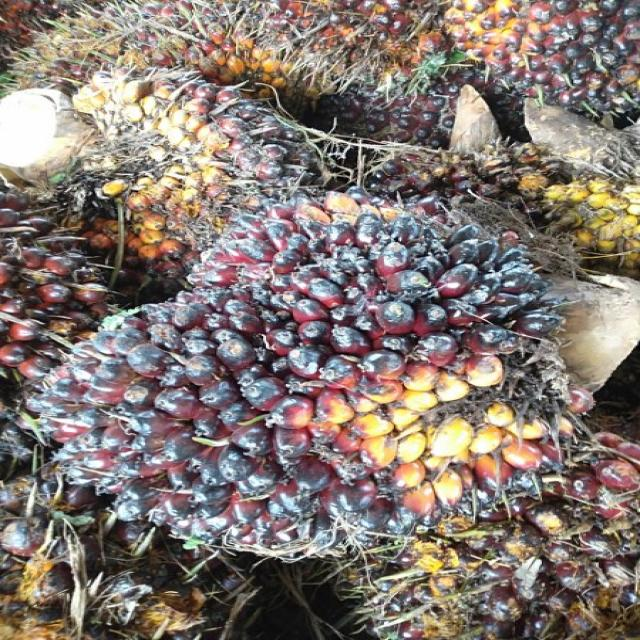fraksi 1: (77, 203, 585, 558)
